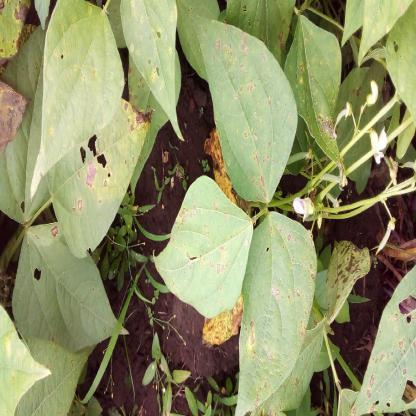Beans_Angular_LeafSpot: (49, 72, 150, 250), (230, 214, 315, 413), (202, 24, 294, 199), (154, 177, 251, 314), (357, 265, 414, 416), (283, 64, 344, 167), (325, 227, 371, 315)
